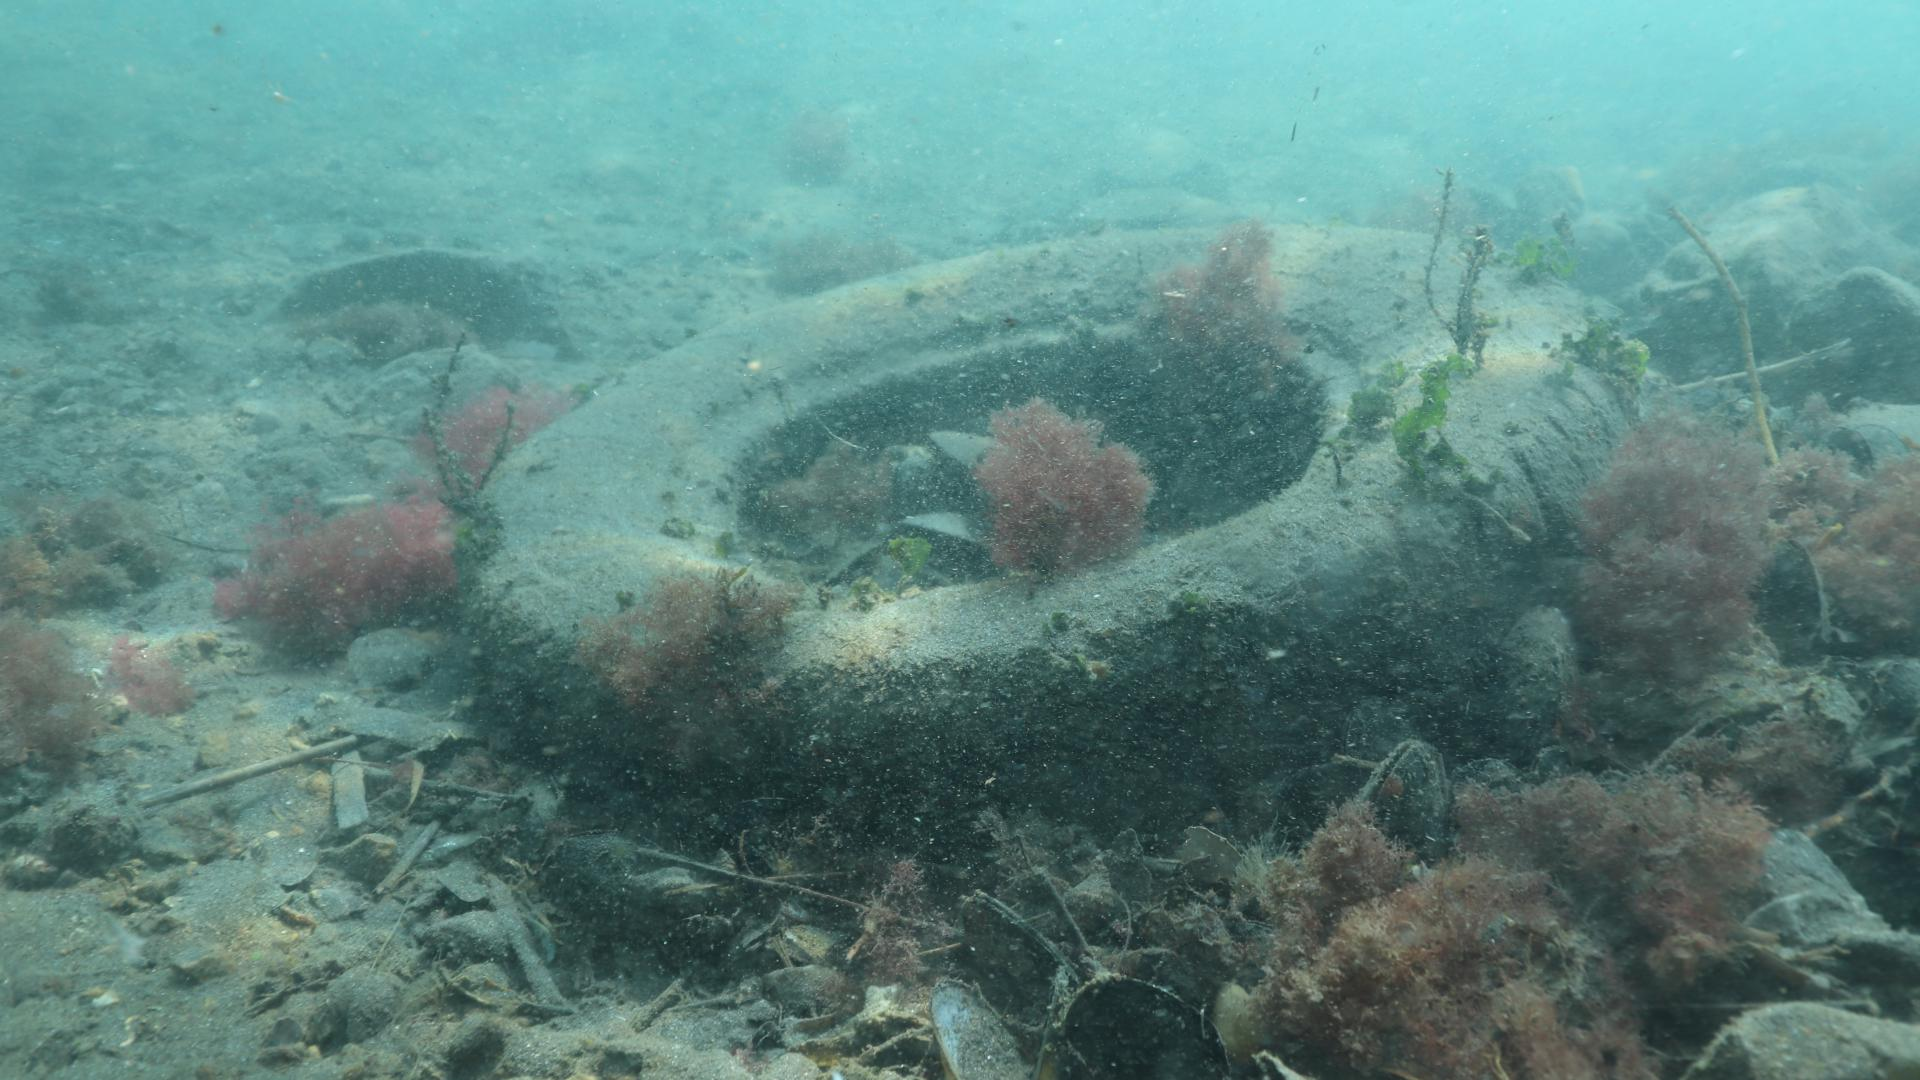tire: (464, 218, 1648, 843)
